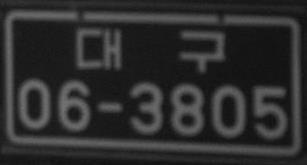0: (210, 83, 246, 137), (17, 78, 51, 129)
3: (129, 80, 164, 134)
5: (252, 84, 287, 139)
6: (57, 77, 91, 131)
8: (169, 82, 204, 135)
대구_D: (76, 26, 227, 72)
